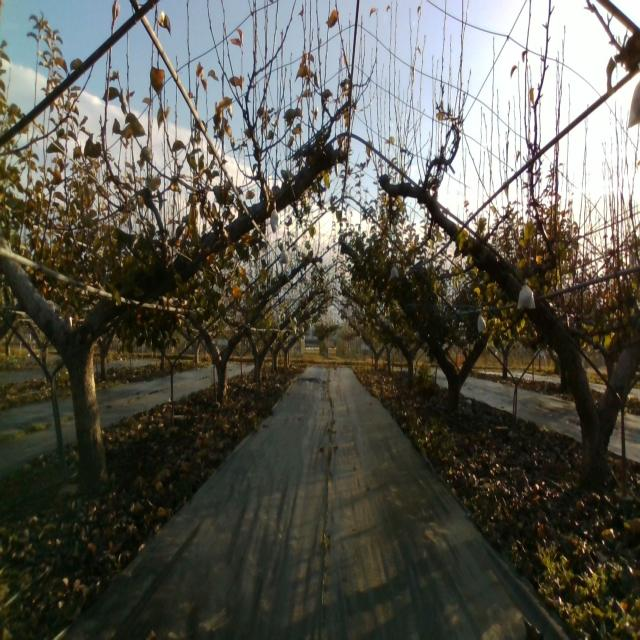pearbags: (517, 279, 536, 311), (269, 201, 281, 233)
